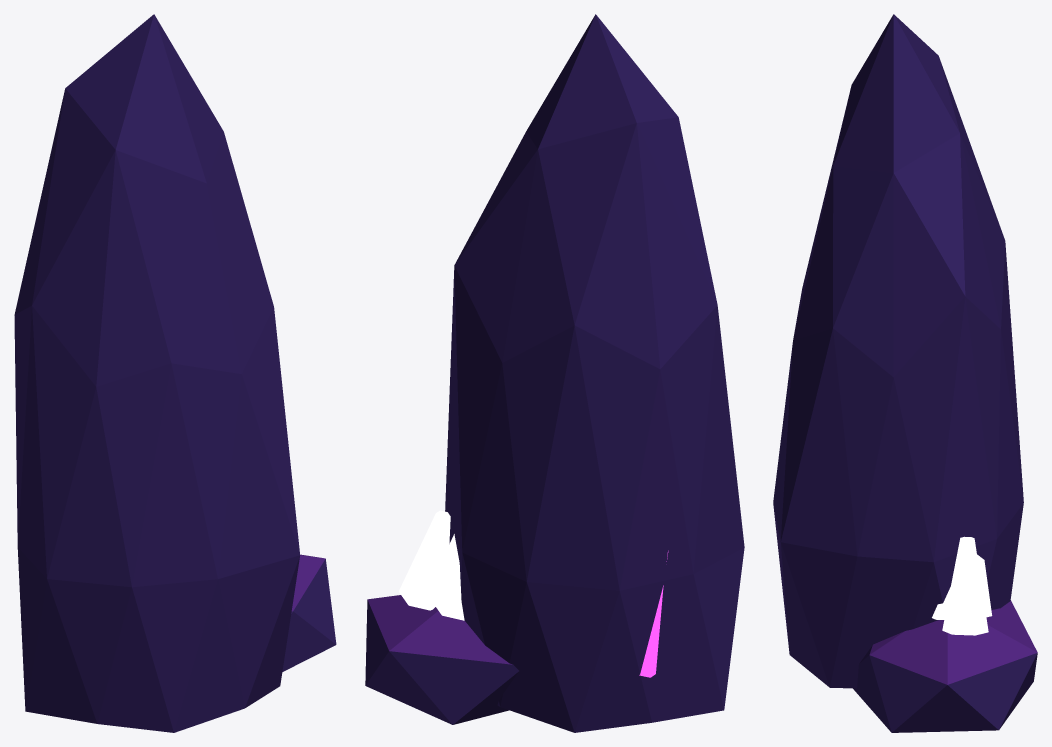
Rendered from W6_Rock_B.fbx.
3 renders of one model, left to right at view 1: azimuth 30°, elevation 25°; view 2: azimuth 150°, elevation 25°; view 3: azimuth 270°, elevation 25°, orthographic. The views are drawn at different scales.
Parts seen in each view (by area): view 1: W6_Rock_B; view 2: W6_Rock_B; view 3: W6_Rock_B.
Boxes of the visible parts, x1,y1,x2,y2 form: W6_Rock_B: (14, 14, 336, 732); W6_Rock_B: (365, 14, 744, 732); W6_Rock_B: (773, 14, 1037, 732).
Size of the model in its own units: 1.99 by 3.91 by 1.47.
